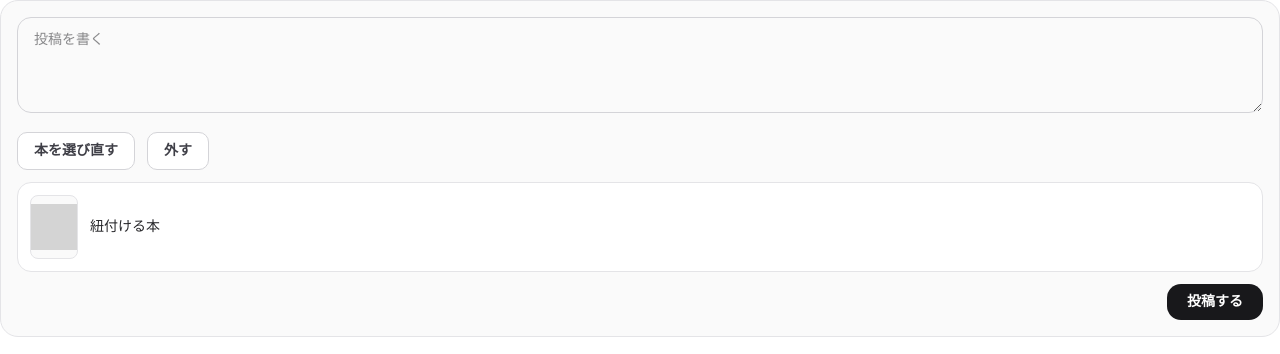
Test: community composers › 本あり投稿をBOOK_TOPICとして送信し、成功後に入力をclearする
In the text box with placeholder "投稿を書く": (640, 65) [17,17,1263,113], type "  本の感想  "
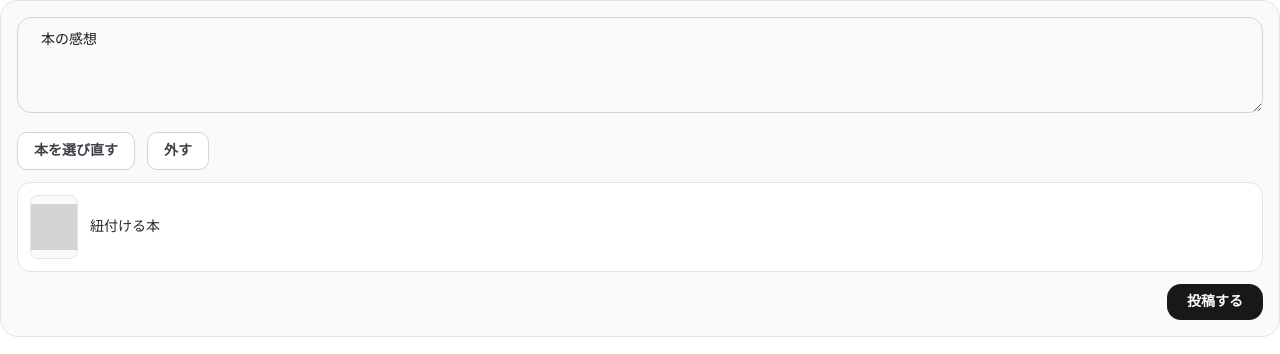
Click the button "投稿する": (1215, 302) [1167,284,1263,320]
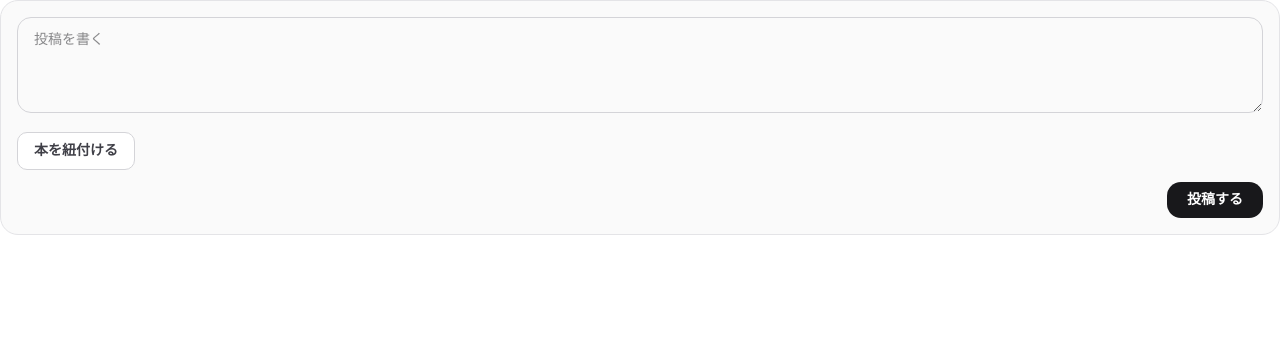
Expected: the text box with placeholder "投稿を書く" is empty, [17,17,1263,113]
Expected: the text "紐付ける本" is gone
